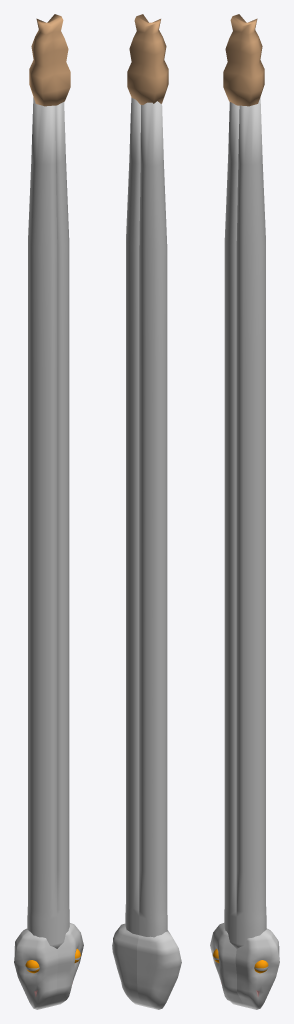
File: snake.obj
The picture shows the model from 3 angles, left to right: view 1: azimuth 30°, elevation 25°; view 2: azimuth 150°, elevation 25°; view 3: azimuth 330°, elevation 25°; orthographic projection.
Parts seen in each view (by area): view 1: Body_2, Head_2, Rattle_8; view 2: Body_5, Body_2, Head_5, Rattle_8; view 3: Body_2, Head_2, Rattle_8.
Part boxes in pixels (left/top/right/bottom): Body_2: left=27, top=97, right=69, bottom=948; Head_2: left=14, top=923, right=83, bottom=1009; Rattle_8: left=29, top=14, right=70, bottom=106; Body_5: left=126, top=98, right=154, bottom=937; Body_2: left=125, top=97, right=167, bottom=936; Head_5: left=112, top=923, right=181, bottom=1009; Rattle_8: left=127, top=14, right=168, bottom=104; Body_2: left=224, top=97, right=266, bottom=948; Head_2: left=210, top=923, right=279, bottom=1009; Rattle_8: left=223, top=14, right=264, bottom=106.
Bounding box in the file's own units: 3.22 × 43.52 × 1.64.
